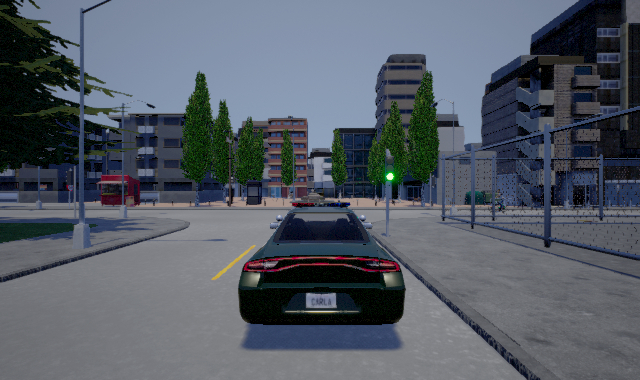traffic_light: (385, 155, 395, 182)
traffic_sign: (66, 181, 75, 192)
vehicle: (238, 202, 406, 325)
